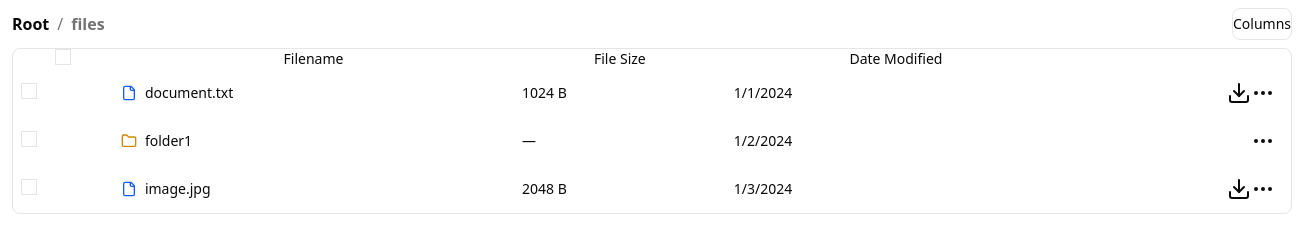
Test: DataTable › allows select all functionality
The width and height of the screenshot is (1304, 241).
Check: the text "document.txt" is shown, box x1=145 y1=83 x2=233 y2=103
Click the checkbox named "select all": (63, 57) x1=55 y1=49 x2=71 y2=65
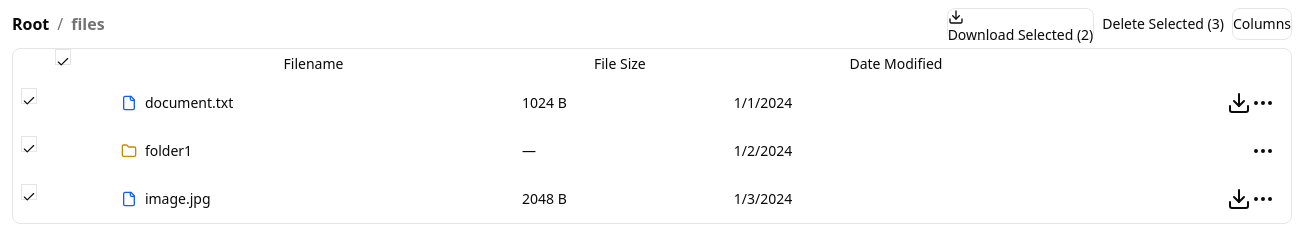
Check: the checkbox named "select row" next to "document.txt" is checked, box x1=21 y1=88 x2=37 y2=104
Check: the checkbox named "select row" next to "folder1" is checked, box x1=21 y1=136 x2=37 y2=152
Check: the checkbox named "select row" next to "image.jpg" is checked, box x1=21 y1=184 x2=37 y2=200
